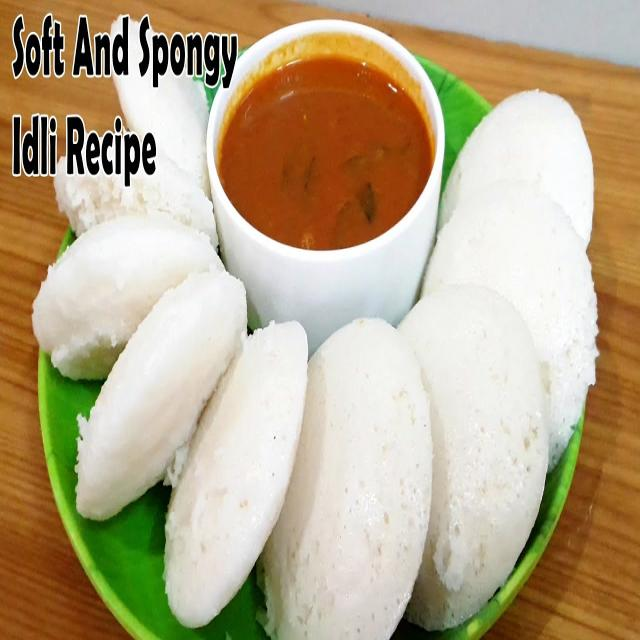Wet Waste: (364, 275, 543, 630), (268, 311, 432, 639), (158, 310, 314, 625), (426, 184, 596, 450), (77, 268, 247, 518), (23, 214, 230, 369), (441, 80, 594, 284)
